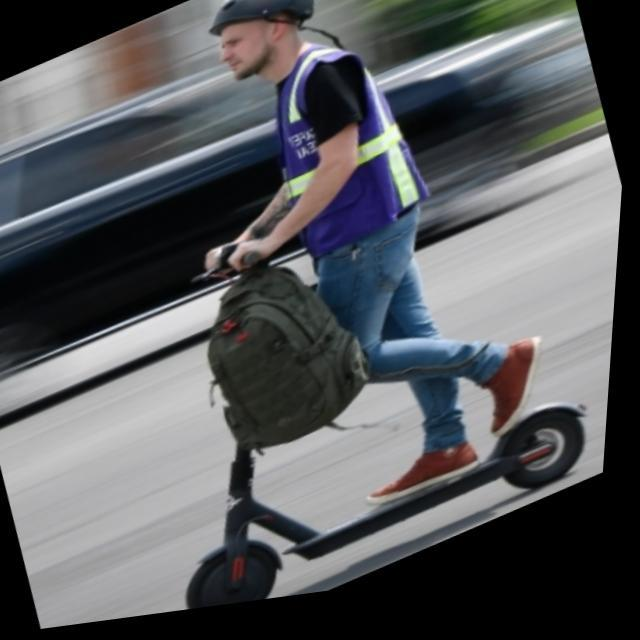Helmet: (203, 0, 326, 83)
